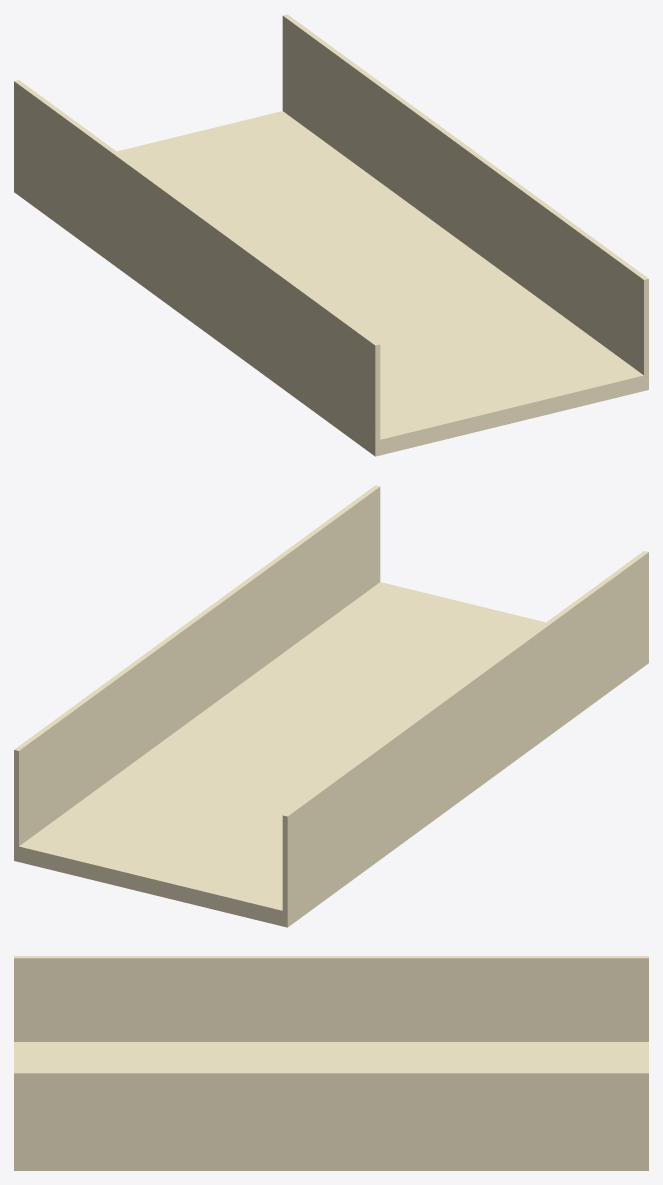
File: climb-skin-10.glb
The picture shows the model from 3 angles, top to bottom: view 1: azimuth 30°, elevation 25°; view 2: azimuth 150°, elevation 25°; view 3: azimuth 270°, elevation 25°; orthographic projection. The views are drawn at different scales.
Visible parts, largest first — view 1: climb-skin-10; view 2: climb-skin-10; view 3: climb-skin-10.
Part boxes in pixels (box(x1,y1,x2,y2)): climb-skin-10: box(14, 14, 648, 456); climb-skin-10: box(14, 485, 648, 927); climb-skin-10: box(14, 956, 648, 1170).
Size of the model in its own units: 3.3 by 1.28 by 7.55.
1 material, 1 textured.
